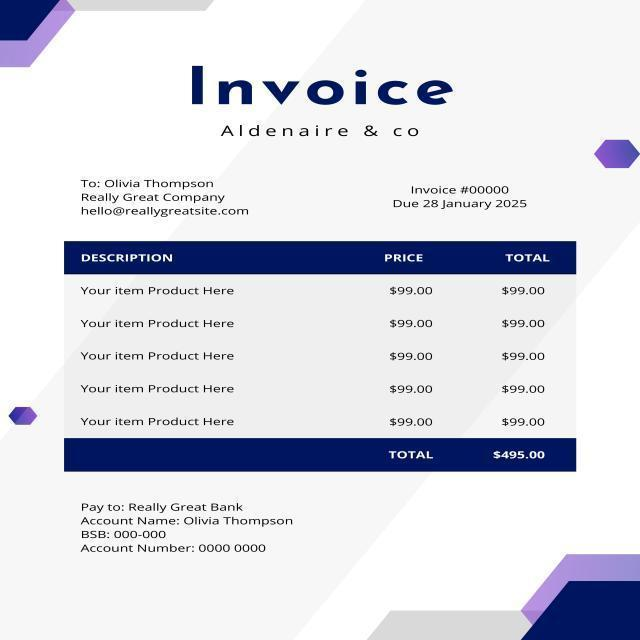ROI: (66, 243, 567, 434), (179, 49, 460, 144), (72, 494, 299, 559), (76, 173, 254, 223), (389, 183, 531, 215), (384, 442, 550, 468)
